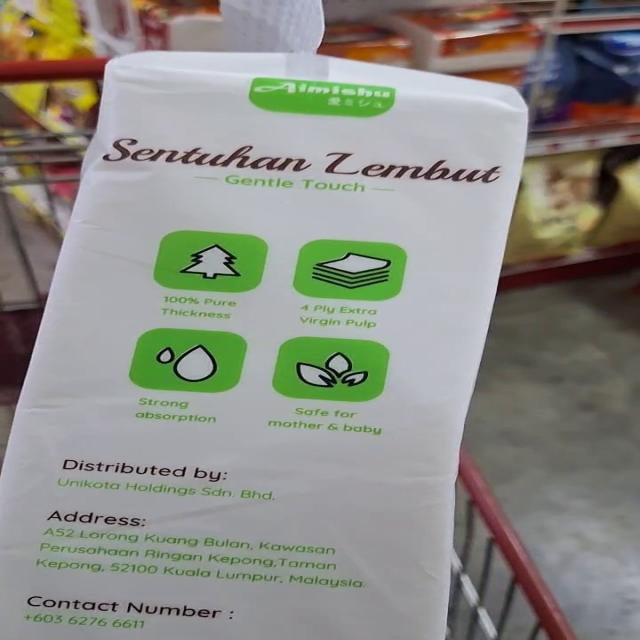Tisu: (61, 46, 546, 394), (2, 336, 492, 640)
